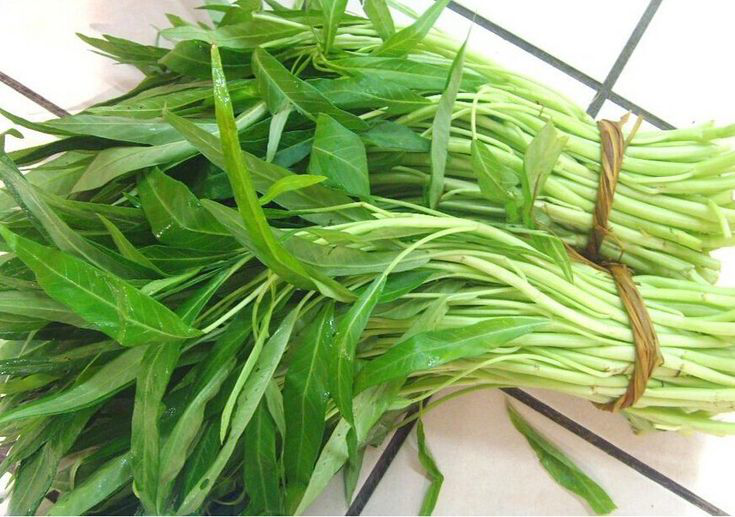Kangkung: (67, 49, 708, 493)
